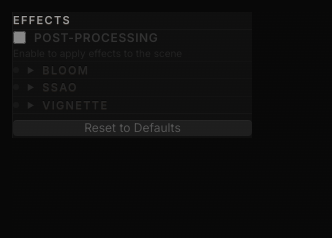
Test case: EffectsPanel › expanding Bloom section reveals rotary knobs
The image size is (332, 238).
// Click on Bloom section to expand
Click the text "Bloom" at (66, 70), box [42,62,89,78]
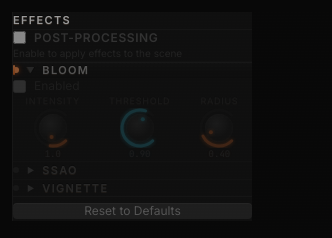
Check: the slider named "Threshold" is shown, box [120,108,160,148]
